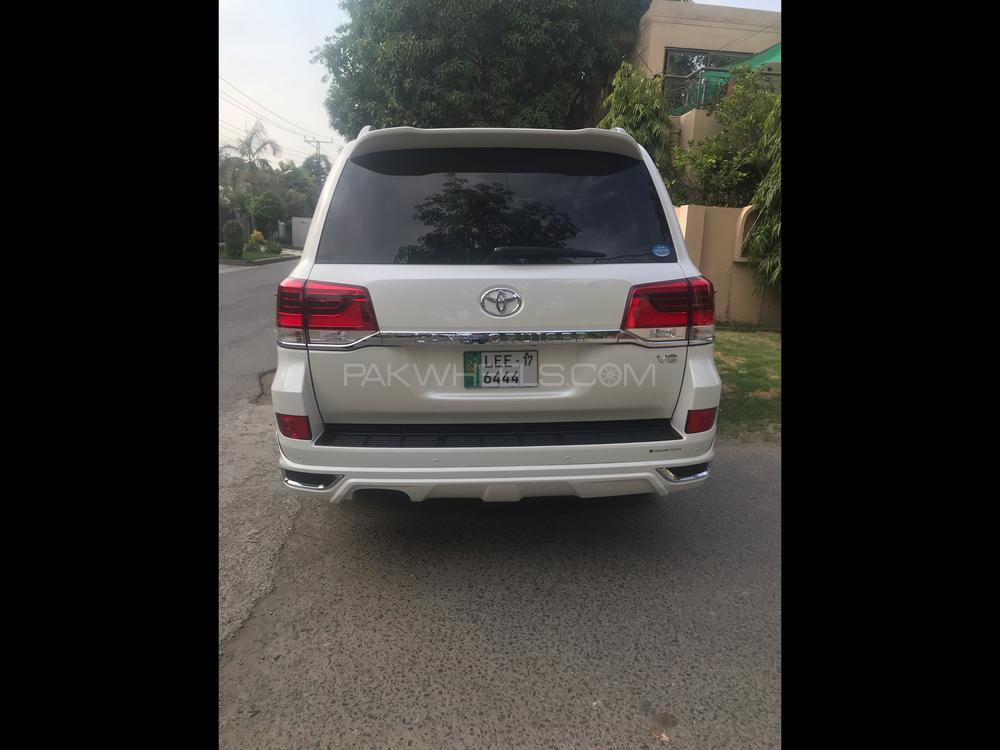license plate: (464, 352, 540, 386)
